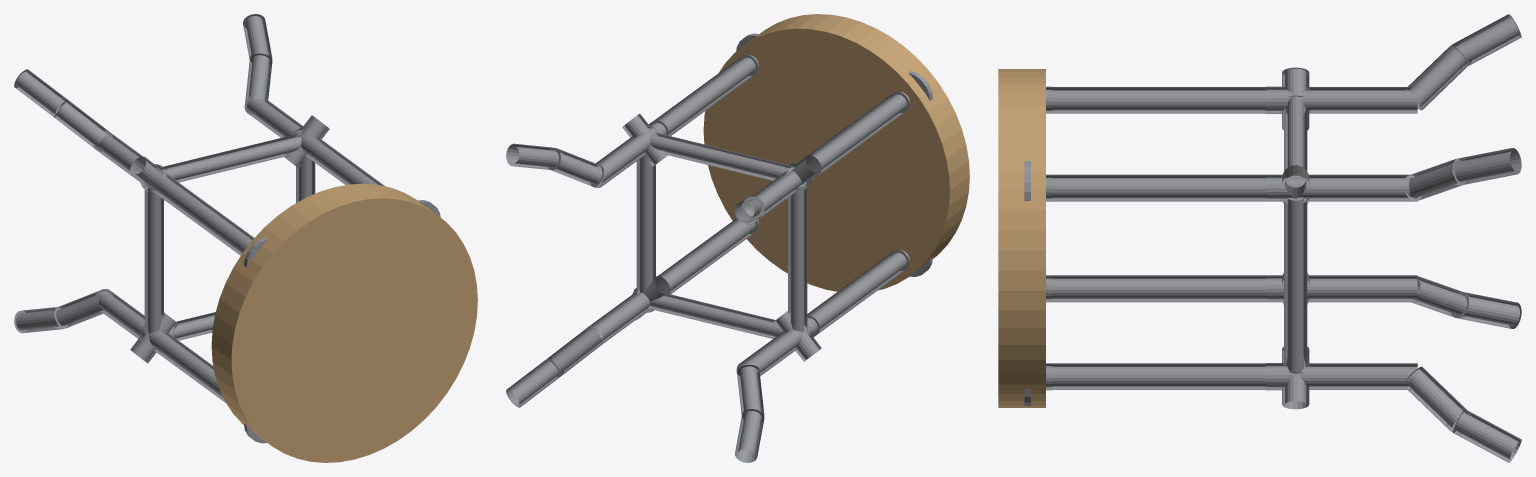
File: stool_default.glb
3 renders of one model, left to right at view 1: azimuth 30°, elevation 25°; view 2: azimuth 150°, elevation 25°; view 3: azimuth 270°, elevation 25°, orthographic. The views are drawn at different scales.
Visible parts, largest first — view 1: seat, leg3, leg2, stretch2, leg0, stretch3, foot3, foot2, foot0, tee0, tee2, tee3 (+2 smaller); view 2: seat, leg0, leg2, leg1, leg3, stretch2, stretch3, stretch0, foot1, stretch1, foot0, foot2 (+5 smaller); view 3: seat, leg2, leg0, leg3, leg1, stretch0, foot1, foot3, foot0, foot2, stretch3, tee1 (+3 smaller).
Boxes of the visible parts, <box> form: seat: <box>211,183,477,462</box>; leg3: <box>93,130,253,255</box>; leg2: <box>93,289,225,402</box>; stretch2: <box>144,183,163,333</box>; leg0: <box>244,94,384,186</box>; stretch3: <box>159,133,301,182</box>; foot3: <box>14,69,111,151</box>; foot2: <box>14,291,103,333</box>; foot0: <box>243,14,272,102</box>; tee0: <box>284,115,329,167</box>; tee2: <box>130,312,178,363</box>; tee3: <box>130,156,176,200</box>; seat: <box>703,14,969,291</box>; leg0: <box>587,55,758,187</box>; leg2: <box>736,250,909,375</box>; leg1: <box>585,218,757,346</box>; leg3: <box>742,92,909,224</box>; stretch2: <box>788,181,807,332</box>; stretch3: <box>650,132,795,180</box>; stretch0: <box>636,152,655,294</box>; foot1: <box>506,325,603,407</box>; stretch1: <box>647,292,784,338</box>; foot0: <box>506,143,603,186</box>; foot2: <box>735,364,764,462</box>; seat: <box>998,69,1045,407</box>; leg2: <box>1052,275,1417,302</box>; leg0: <box>1052,174,1417,201</box>; leg3: <box>1052,87,1417,113</box>; leg1: <box>1052,363,1417,389</box>; stretch0: <box>1284,197,1307,373</box>; foot1: <box>1404,366,1521,462</box>; foot3: <box>1404,14,1521,110</box>; foot0: <box>1404,148,1521,201</box>; foot2: <box>1406,275,1521,328</box>; stretch3: <box>1284,96,1307,177</box>; tee1: <box>1265,346,1309,409</box>.
Bounding box in the file's own units: 305 × 305 × 463.
